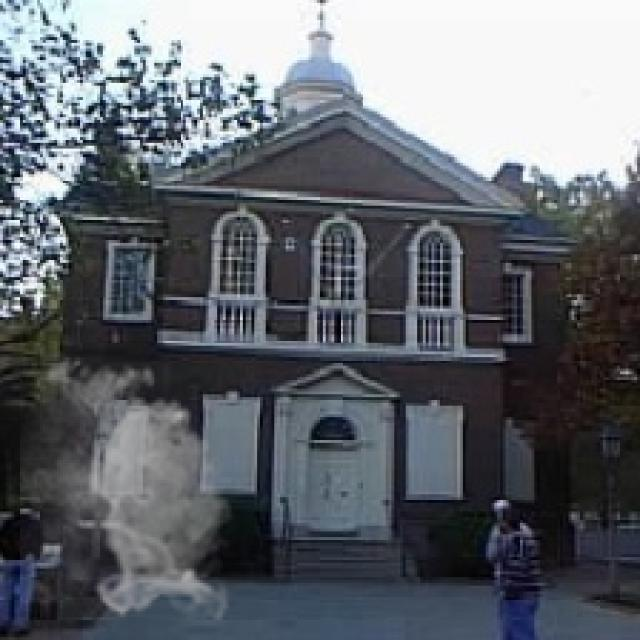Smoke: (20, 348, 240, 620)
